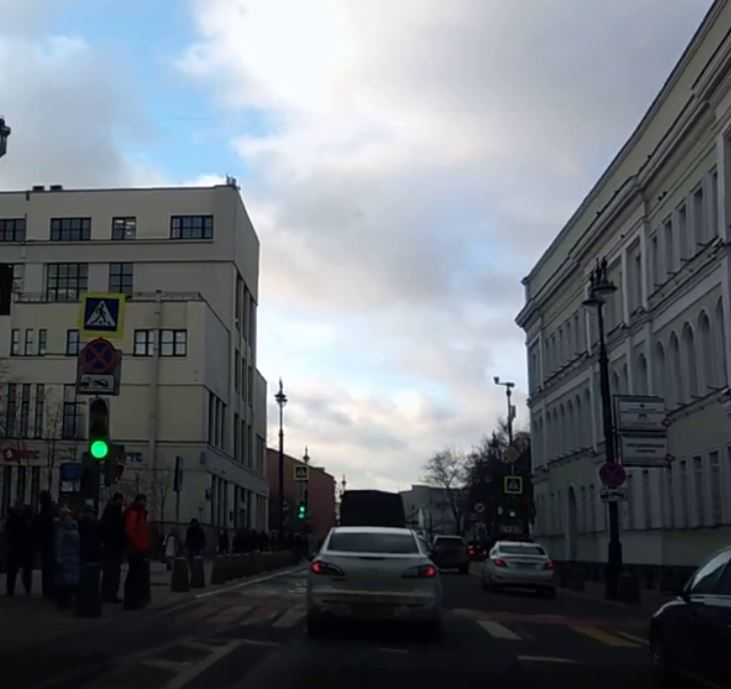Yaya Gecidi: (86, 295, 119, 329)
